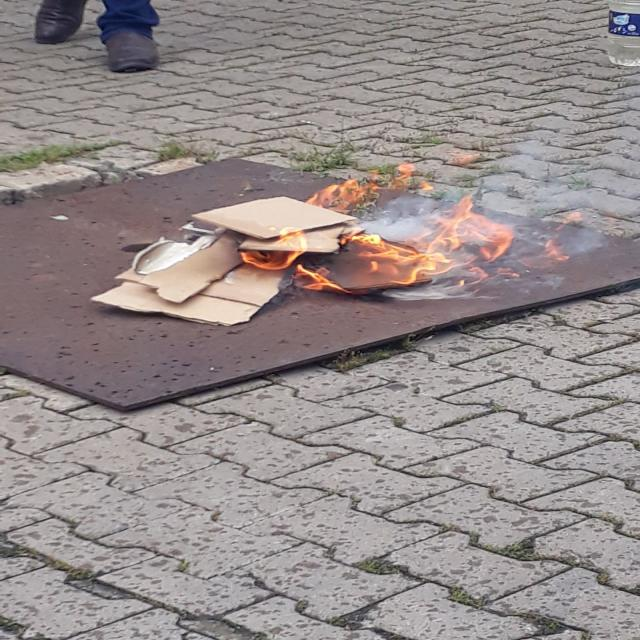fire: (244, 129, 602, 311)
